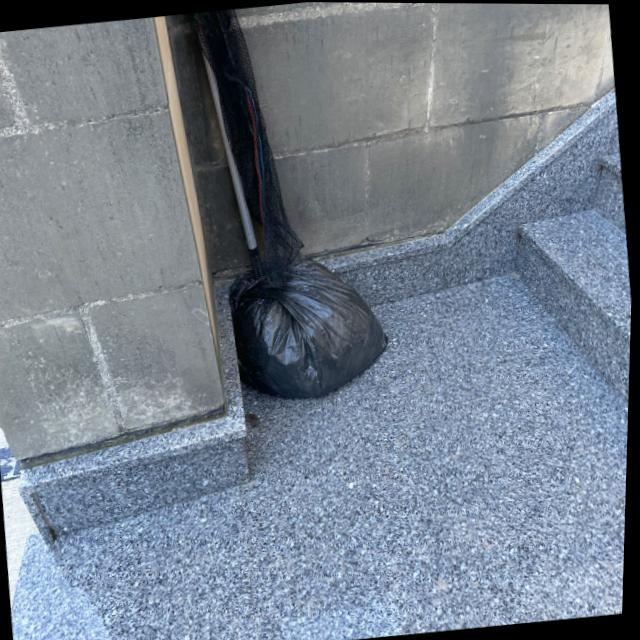Mixed Waste -Black Bags-: (229, 253, 390, 398)
